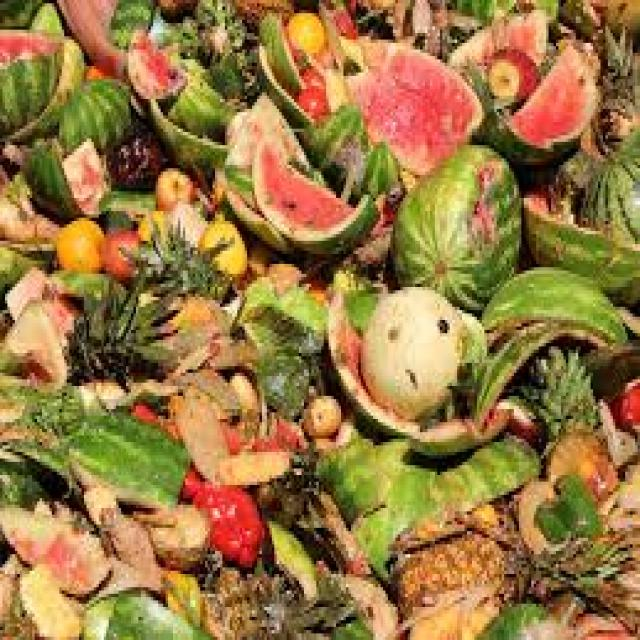food_waste: (38, 64, 599, 578)
